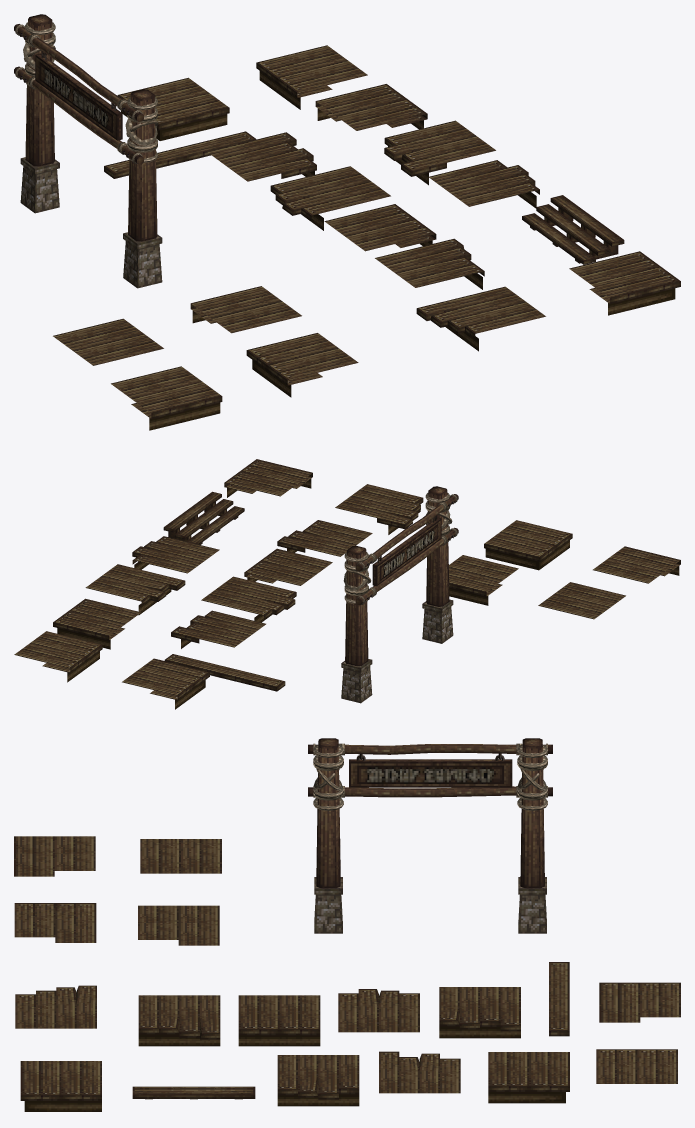
The model's file is EnvMdrMD_Wilderness_A_GrdTerrace_A_BK.FBX.
3 renders of one model, top to bottom at view 1: azimuth 30°, elevation 25°; view 2: azimuth 150°, elevation 25°; view 3: azimuth 270°, elevation 25°, orthographic. The views are drawn at different scales.
Parts seen in each view (by area): view 1: EnvMdrMD_Wilderness_A_TownGate_A, EnvMdrMD_Wilderness_A_GrdTerrace_A_RS, EnvMdrMD_Wilderness_A_GrdTerrace_A_CoOut_RB, EnvMdrMD_Wilderness_A_GrdTerrace_A_FR_Broken_End, EnvMdrMD_Wilderness_A_GrdTerrace_A_FR_Broken_Loop, EnvMdrMD_Wilderness_A_GrdTerrace_A_FR_Broken_Start, EnvMdrMD_Wilderness_A_GrdTerrace_A_FR, EnvMdrMD_Wilderness_A_GrdTerrace_A_CoOut_LF, EnvMdrMD_Wilderness_A_GrdTerrace_A_Step_3S3W, EnvMdrMD_Wilderness_A_GrdTerrace_A_CoOut_RF, EnvMdrMD_Wilderness_A_GrdTerrace_A_CoOut_LB, EnvMdrMD_Wilderness_A_GrdTerrace_A_BK_Broken_End (+6 smaller); view 2: EnvMdrMD_Wilderness_A_TownGate_A, EnvMdrMD_Wilderness_A_GrdTerrace_A_CoOut_LF, EnvMdrMD_Wilderness_A_GrdTerrace_A_CoOut_LB, EnvMdrMD_Wilderness_A_GrdTerrace_A_FR_Broken_Loop, EnvMdrMD_Wilderness_A_GrdTerrace_A_FR_Broken_End, EnvMdrMD_Wilderness_A_GrdTerrace_A_FR_Broken_Start, EnvMdrMD_Wilderness_A_GrdTerrace_A_FR, EnvMdrMD_Wilderness_A_GrdTerrace_A_CoOut_RF, EnvMdrMD_Wilderness_A_GrdTerrace_A_LS, EnvMdrMD_Wilderness_A_GrdTerrace_A_Step_3S3W, EnvMdrMD_Wilderness_A_GrdTerrace_A_CoOut_RB, EnvMdrMD_Wilderness_A_GrdTerrace_A_BK_Broken_End (+6 smaller); view 3: EnvMdrMD_Wilderness_A_TownGate_A, EnvMdrMD_Wilderness_A_GrdTerrace_A_BK, EnvMdrMD_Wilderness_A_GrdTerrace_A_BK_Broken_Loop, EnvMdrMD_Wilderness_A_GrdTerrace_A_BK_Broken_Start, EnvMdrMD_Wilderness_A_GrdTerrace_A_BK_Broken_End, EnvMdrMD_Wilderness_A_GrdTerrace_A_CoOut_LB, EnvMdrMD_Wilderness_A_GrdTerrace_A_CoOut_RB, EnvMdrMD_Wilderness_A_GrdTerrace_A_FR_Broken_Loop, EnvMdrMD_Wilderness_A_GrdTerrace_A_FR_Broken_End, EnvMdrMD_Wilderness_A_GrdTerrace_A_FR_Broken_Start, EnvMdrMD_Wilderness_A_GrdTerrace_A_CoOut_RF, EnvMdrMD_Wilderness_A_GrdTerrace_A_LS (+6 smaller).
Boxes of the visible parts, x1,y1,x2,y2 form: EnvMdrMD_Wilderness_A_TownGate_A: (14,14,162,288); EnvMdrMD_Wilderness_A_GrdTerrace_A_RS: (111,366,222,430); EnvMdrMD_Wilderness_A_GrdTerrace_A_CoOut_RB: (569,251,680,315); EnvMdrMD_Wilderness_A_GrdTerrace_A_FR_Broken_End: (416,286,545,351); EnvMdrMD_Wilderness_A_GrdTerrace_A_FR_Broken_Loop: (270,166,390,230); EnvMdrMD_Wilderness_A_GrdTerrace_A_FR_Broken_Start: (384,120,495,185); EnvMdrMD_Wilderness_A_GrdTerrace_A_FR: (256,45,367,109); EnvMdrMD_Wilderness_A_GrdTerrace_A_CoOut_LF: (246,333,358,397); EnvMdrMD_Wilderness_A_GrdTerrace_A_Step_3S3W: (522,195,624,264); EnvMdrMD_Wilderness_A_GrdTerrace_A_CoOut_RF: (117,77,229,140); EnvMdrMD_Wilderness_A_GrdTerrace_A_CoOut_LB: (315,84,427,130); EnvMdrMD_Wilderness_A_GrdTerrace_A_BK_Broken_End: (207,132,316,181); EnvMdrMD_Wilderness_A_TownGate_A: (341,486,458,703); EnvMdrMD_Wilderness_A_GrdTerrace_A_CoOut_LF: (484,520,572,570); EnvMdrMD_Wilderness_A_GrdTerrace_A_CoOut_LB: (53,598,140,649); EnvMdrMD_Wilderness_A_GrdTerrace_A_FR_Broken_Loop: (201,576,296,622); EnvMdrMD_Wilderness_A_GrdTerrace_A_FR_Broken_End: (335,484,423,534); EnvMdrMD_Wilderness_A_GrdTerrace_A_FR_Broken_Start: (85,564,185,615); EnvMdrMD_Wilderness_A_GrdTerrace_A_FR: (14,631,102,682); EnvMdrMD_Wilderness_A_GrdTerrace_A_CoOut_RF: (122,658,209,709); EnvMdrMD_Wilderness_A_GrdTerrace_A_LS: (449,555,518,605); EnvMdrMD_Wilderness_A_GrdTerrace_A_Step_3S3W: (163,491,244,544); EnvMdrMD_Wilderness_A_GrdTerrace_A_CoOut_RB: (224,459,312,497); EnvMdrMD_Wilderness_A_GrdTerrace_A_BK_Broken_End: (171,610,265,648); EnvMdrMD_Wilderness_A_TownGate_A: (308,738,552,933); EnvMdrMD_Wilderness_A_GrdTerrace_A_BK: (238,995,320,1046); EnvMdrMD_Wilderness_A_GrdTerrace_A_BK_Broken_Loop: (277,1055,359,1106); EnvMdrMD_Wilderness_A_GrdTerrace_A_BK_Broken_Start: (138,995,220,1046); EnvMdrMD_Wilderness_A_GrdTerrace_A_BK_Broken_End: (439,987,520,1038); EnvMdrMD_Wilderness_A_GrdTerrace_A_CoOut_LB: (488,1052,569,1103); EnvMdrMD_Wilderness_A_GrdTerrace_A_CoOut_RB: (20,1061,101,1111); EnvMdrMD_Wilderness_A_GrdTerrace_A_FR_Broken_Loop: (338,989,419,1032); EnvMdrMD_Wilderness_A_GrdTerrace_A_FR_Broken_End: (15,985,96,1028); EnvMdrMD_Wilderness_A_GrdTerrace_A_FR_Broken_Start: (379,1051,460,1093); EnvMdrMD_Wilderness_A_GrdTerrace_A_CoOut_RF: (599,982,680,1022); EnvMdrMD_Wilderness_A_GrdTerrace_A_LS: (138,905,219,945).
Size of the model in its own units: 1500 by 500 by 1634.
1 material, 1 textured.
